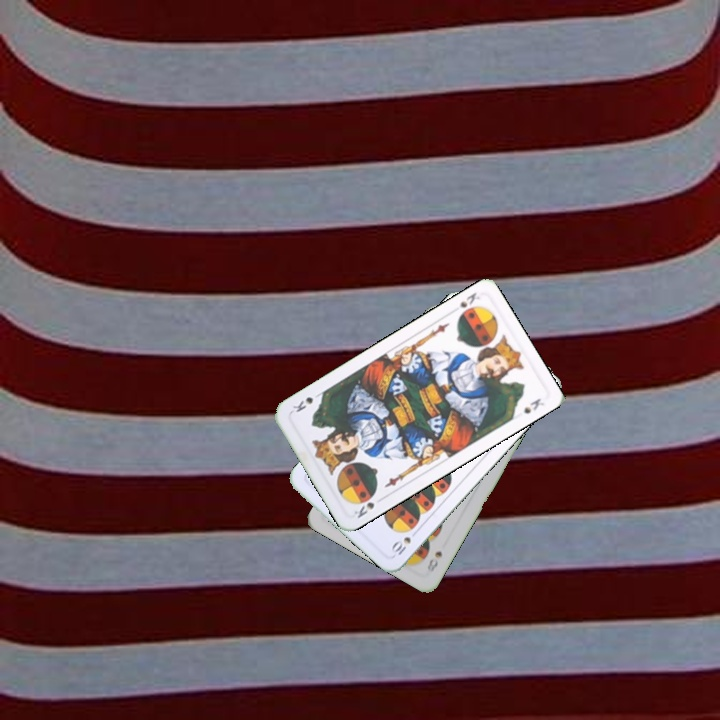S10: (387, 526, 421, 558)
S8: (423, 547, 445, 575)
SK: (454, 288, 482, 320), (350, 498, 377, 521)
